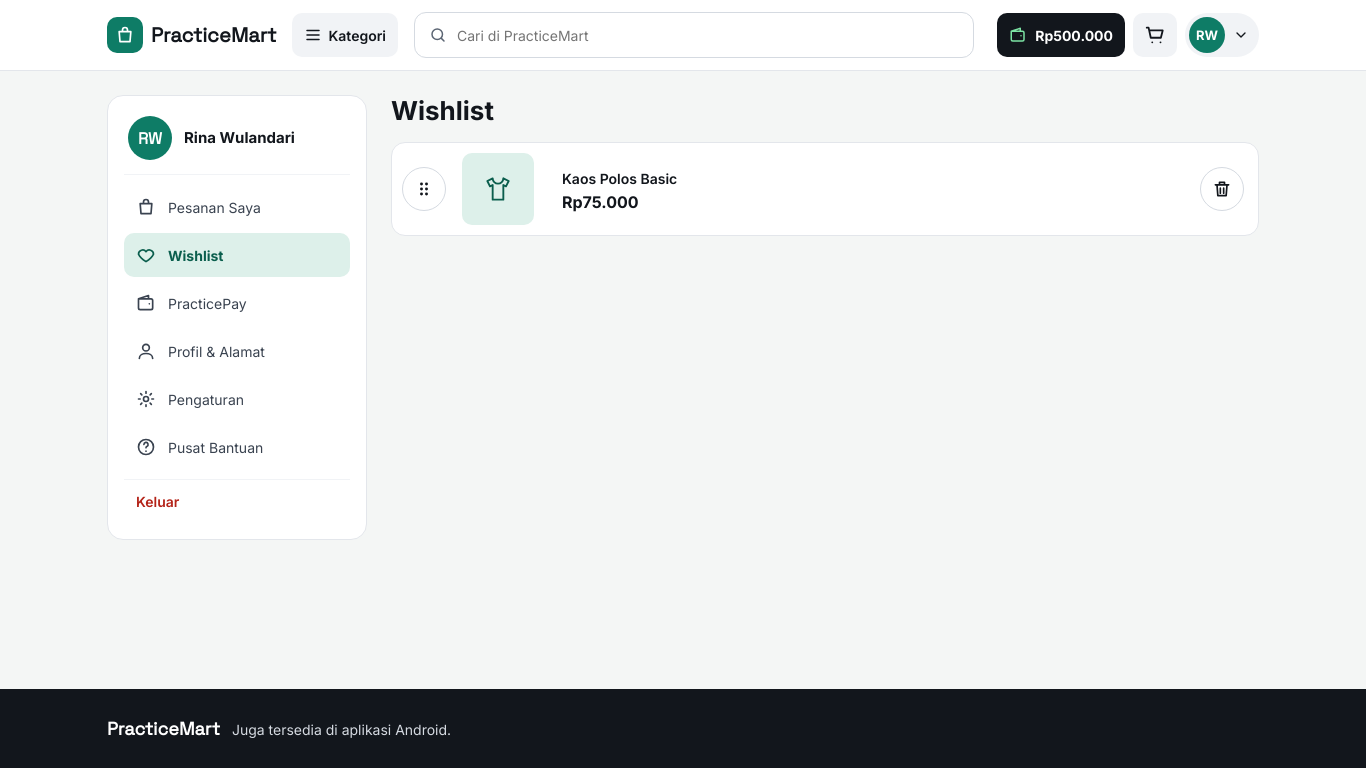
Wishlist (FR-SHOP-12) › hapus → hilang + snackbar; semua dihapus → empty state
The image size is (1366, 768).
What coordinates should you click on to do the following:
click the button with test id "shop_btn_wishlist_remove"
I would click on:
 (1222, 189)
Its box is [1200,167,1244,211].
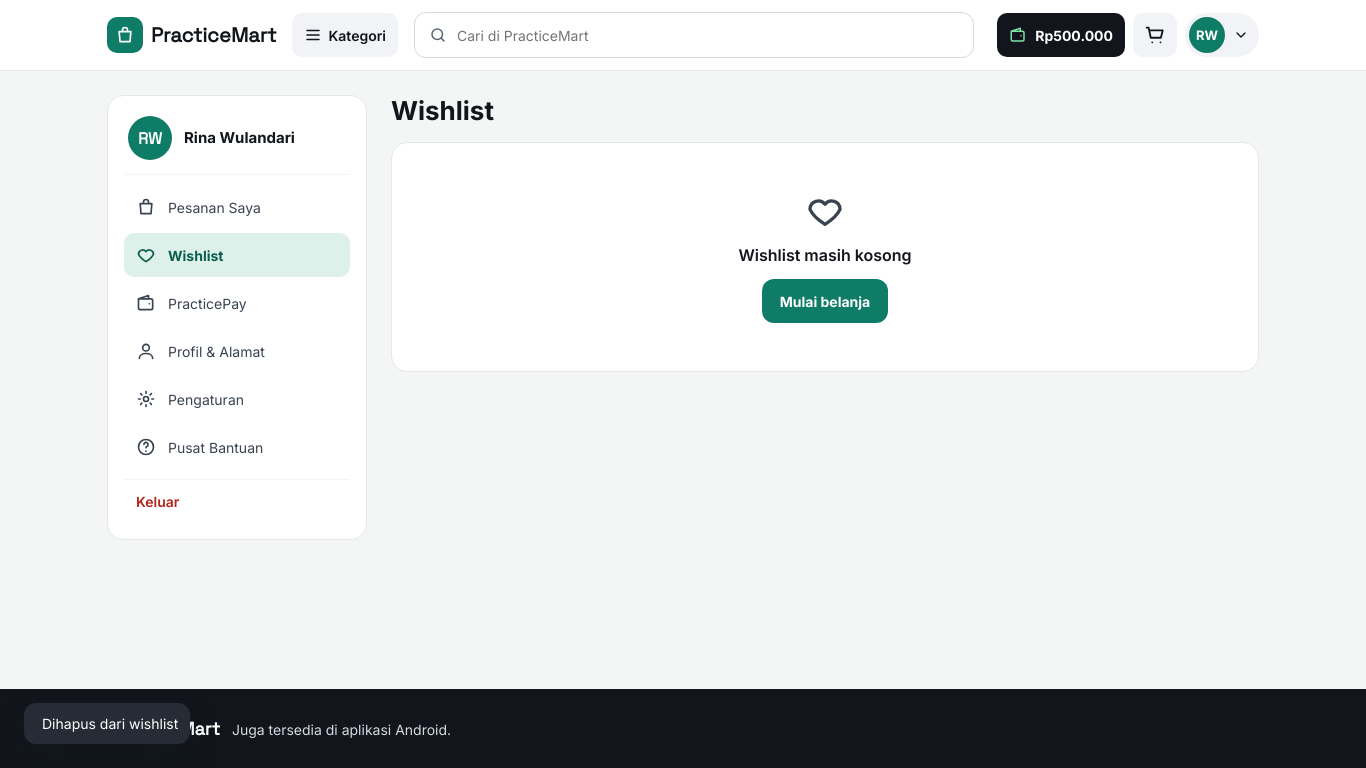
Expected: the text "Dihapus dari wishlist" is shown, [42,715,178,732]
Expected: the text with test id "shop_txt_wishlist_empty" reads "Wishlist masih kosong", [738,245,912,265]
